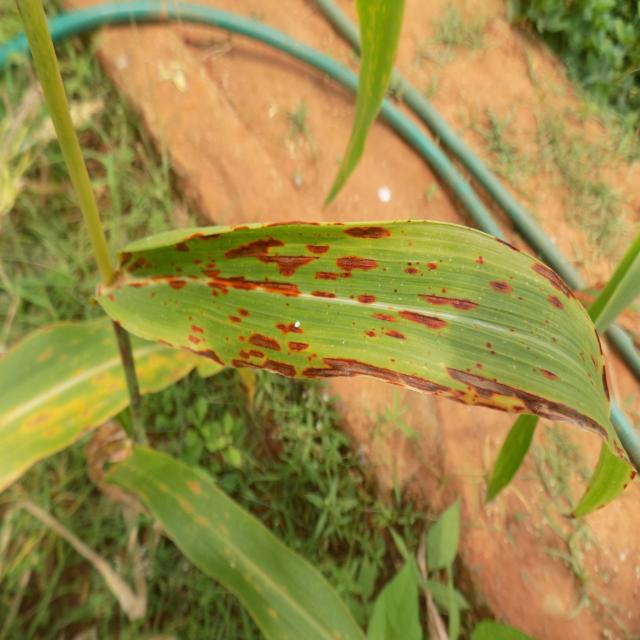millet_healthy: (105, 422, 374, 640), (481, 217, 640, 519)
millet_rust: (90, 212, 636, 520), (0, 235, 257, 492), (328, 0, 407, 214)
